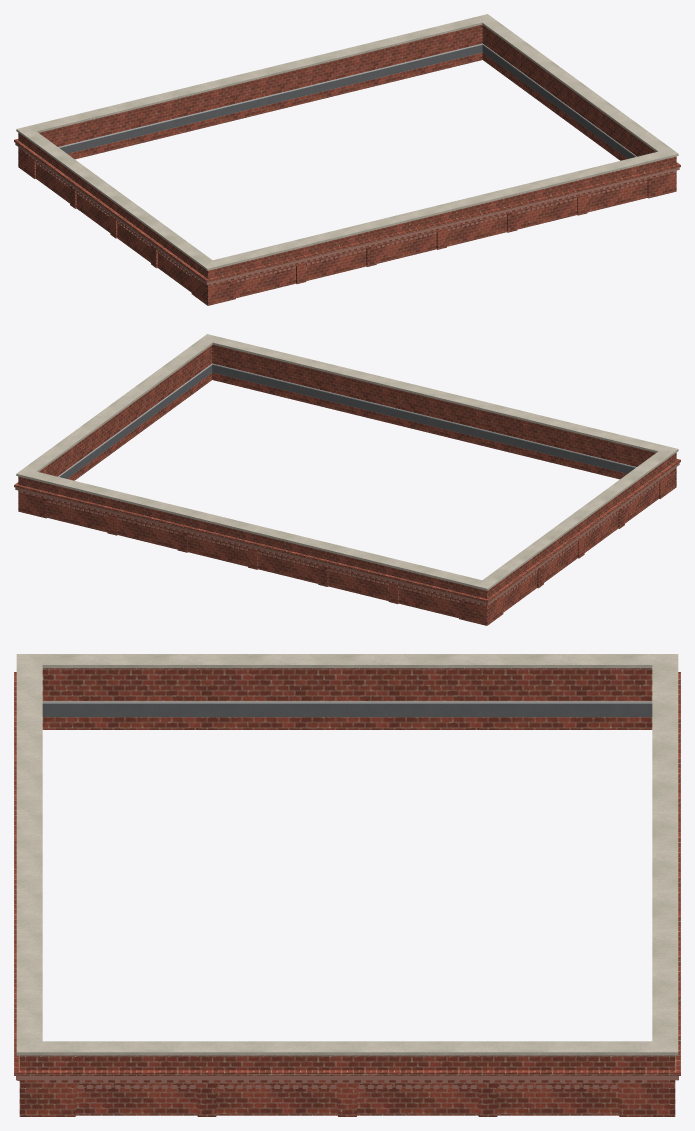
Rendered from parapet.glb.
3 views of the same model, one above another, from view 1: azimuth 30°, elevation 25°; view 2: azimuth 150°, elevation 25°; view 3: azimuth 270°, elevation 25° (orthographic). The views are drawn at different scales.
Visible parts, largest first — view 1: parapet_brick, parapet_stone, parapet_membrane, parapet_brick_d, parapet_galv; view 2: parapet_brick, parapet_stone, parapet_membrane, parapet_brick_d, parapet_galv; view 3: parapet_brick, parapet_stone, parapet_membrane, parapet_brick_d, parapet_galv.
Boxes of the visible parts, bbox=[...] form: parapet_brick: bbox=[14, 24, 680, 305]; parapet_stone: bbox=[16, 14, 678, 270]; parapet_membrane: bbox=[60, 45, 635, 158]; parapet_brick_d: bbox=[15, 143, 679, 285]; parapet_galv: bbox=[58, 43, 636, 156]; parapet_brick: bbox=[14, 344, 680, 625]; parapet_stone: bbox=[16, 334, 678, 590]; parapet_membrane: bbox=[59, 365, 634, 478]; parapet_brick_d: bbox=[15, 463, 679, 605]; parapet_galv: bbox=[58, 363, 636, 476]; parapet_brick: bbox=[14, 668, 680, 1116]; parapet_stone: bbox=[16, 654, 678, 1055]; parapet_membrane: bbox=[42, 703, 652, 716]; parapet_brick_d: bbox=[16, 1076, 678, 1088]; parapet_galv: bbox=[42, 701, 652, 703].
Size of the model in its own units: 20.24 by 1.55 by 14.24.
5 materials, 3 textured.
